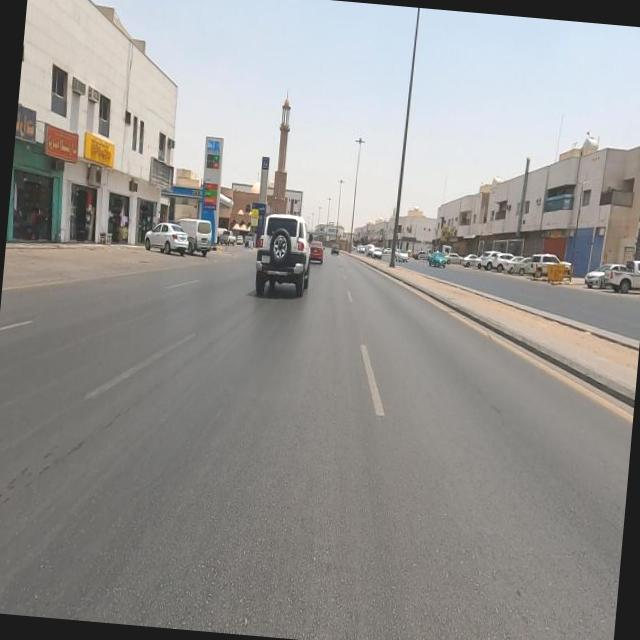debris: (123, 136, 192, 213)
